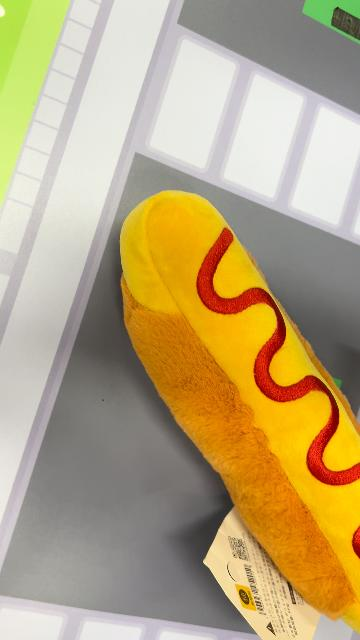hotdog: (119, 189, 359, 633)
